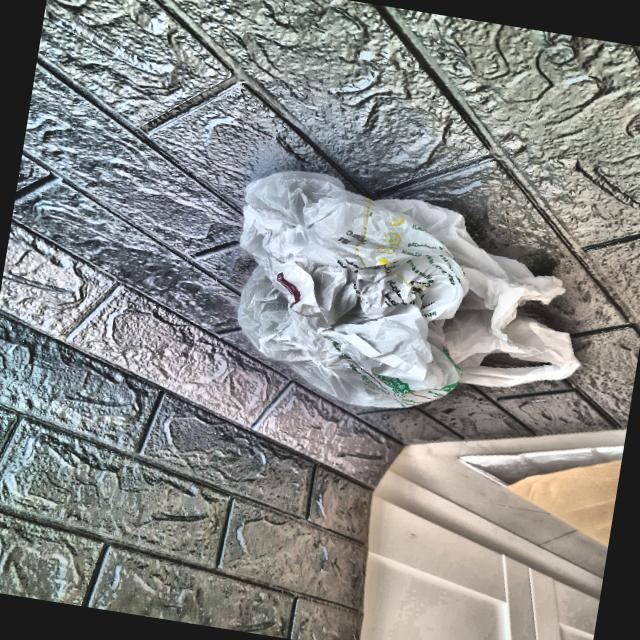plastic bag: (209, 156, 612, 438)
